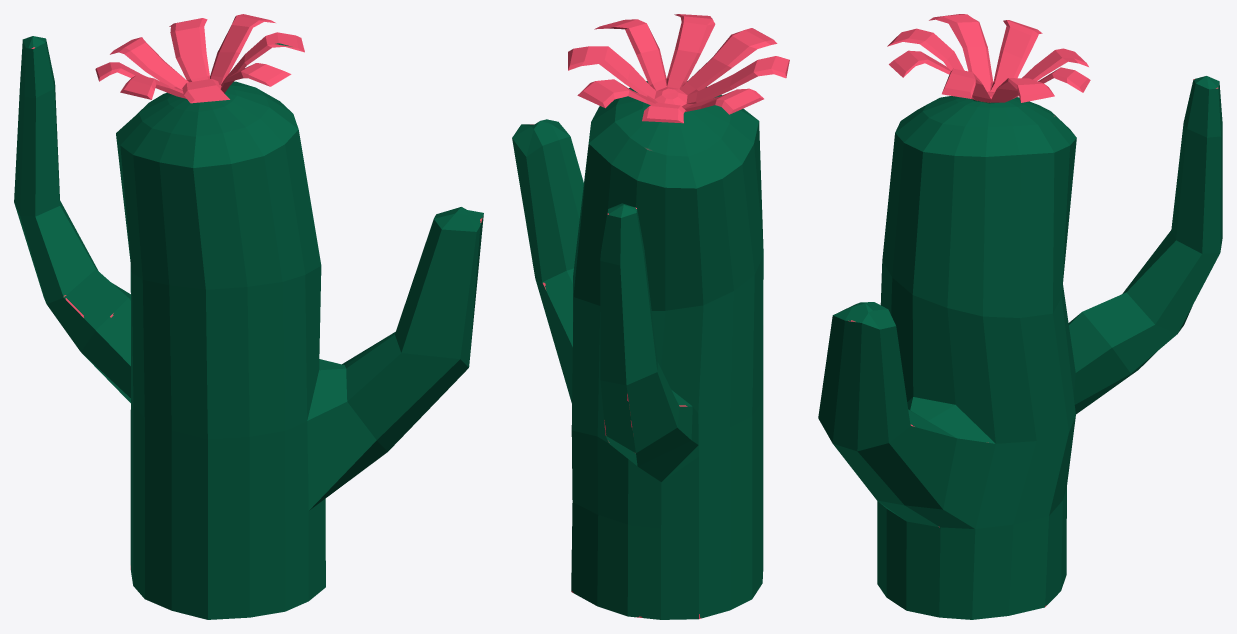
Rendered from CactusFlower.glb.
3 views of the same model, side by side, from view 1: azimuth 30°, elevation 25°; view 2: azimuth 150°, elevation 25°; view 3: azimuth 270°, elevation 25° (orthographic). The views are drawn at different scales.
Visible parts, largest first — view 1: Cactus; view 2: Cactus; view 3: Cactus.
Part boxes in pixels (<box>): Cactus: <box>14,14,483,619</box>; Cactus: <box>512,14,789,619</box>; Cactus: <box>818,14,1222,619</box>.
Size of the model in its own units: 2.06 by 3.36 by 2.34.
1 material, 1 textured.
